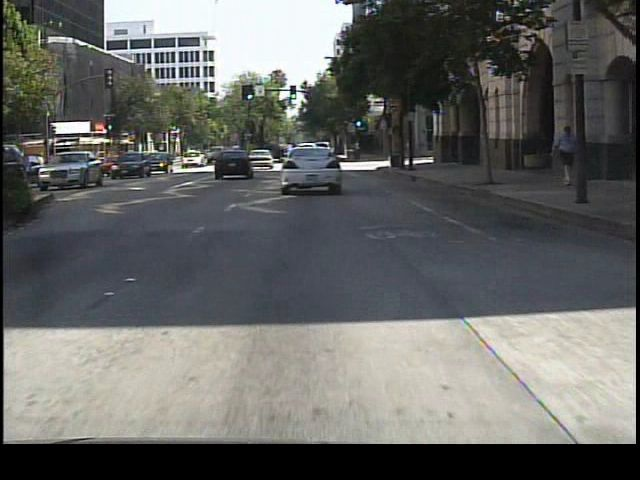person: (551, 120, 577, 190)
